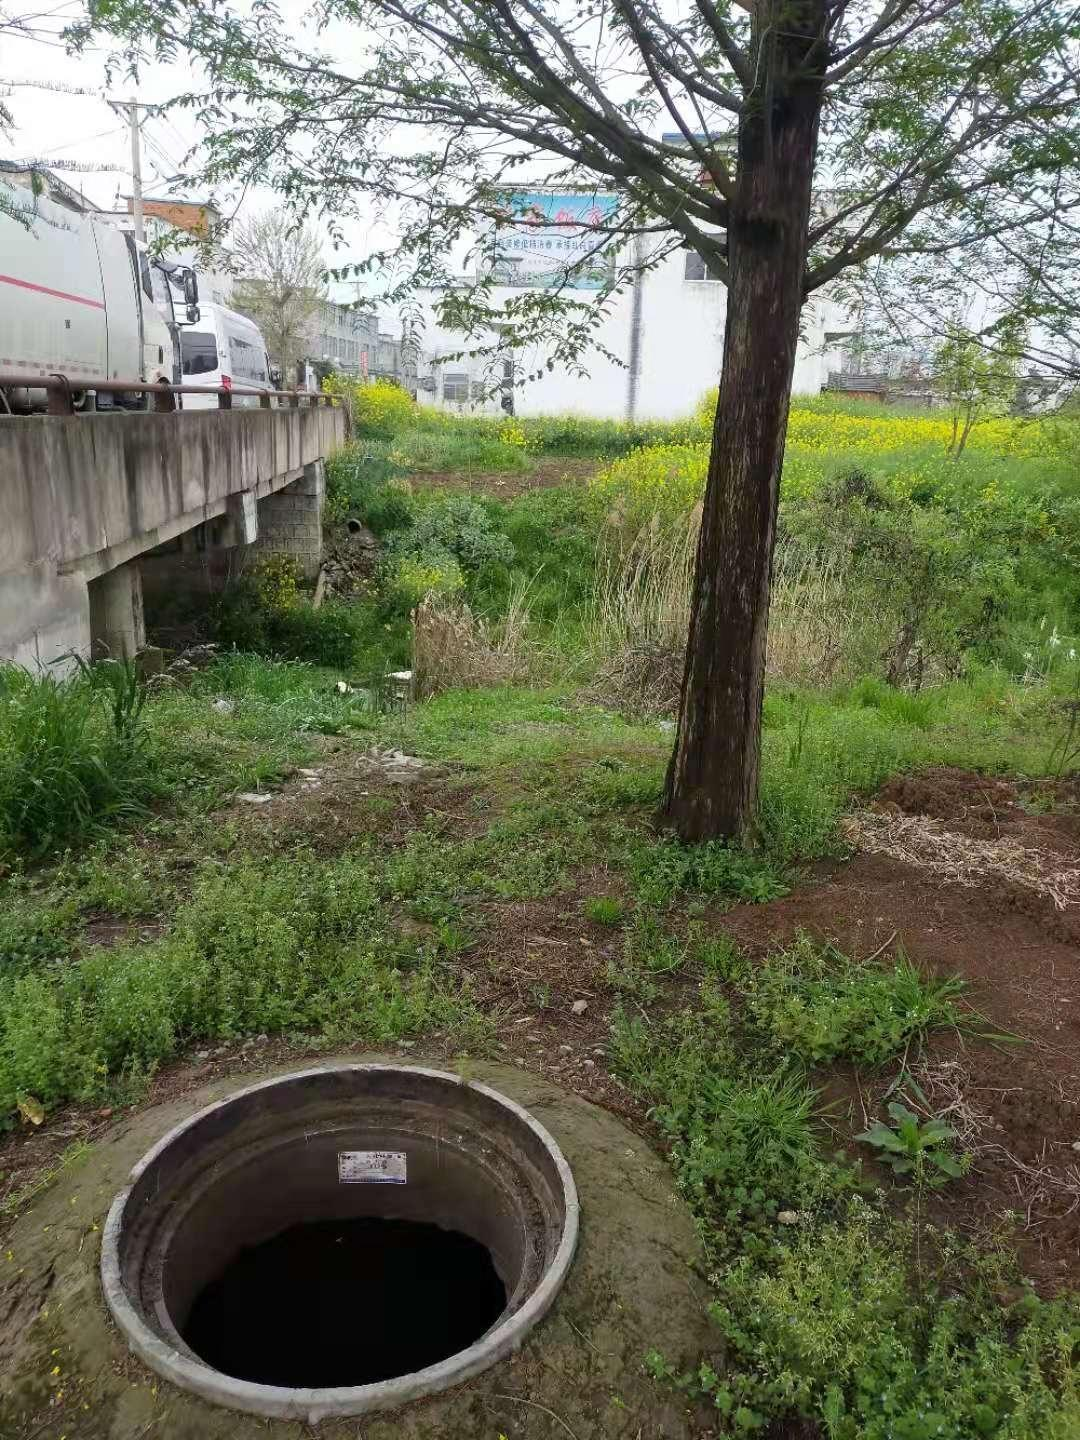wellcover: (0, 1020, 694, 1440)
